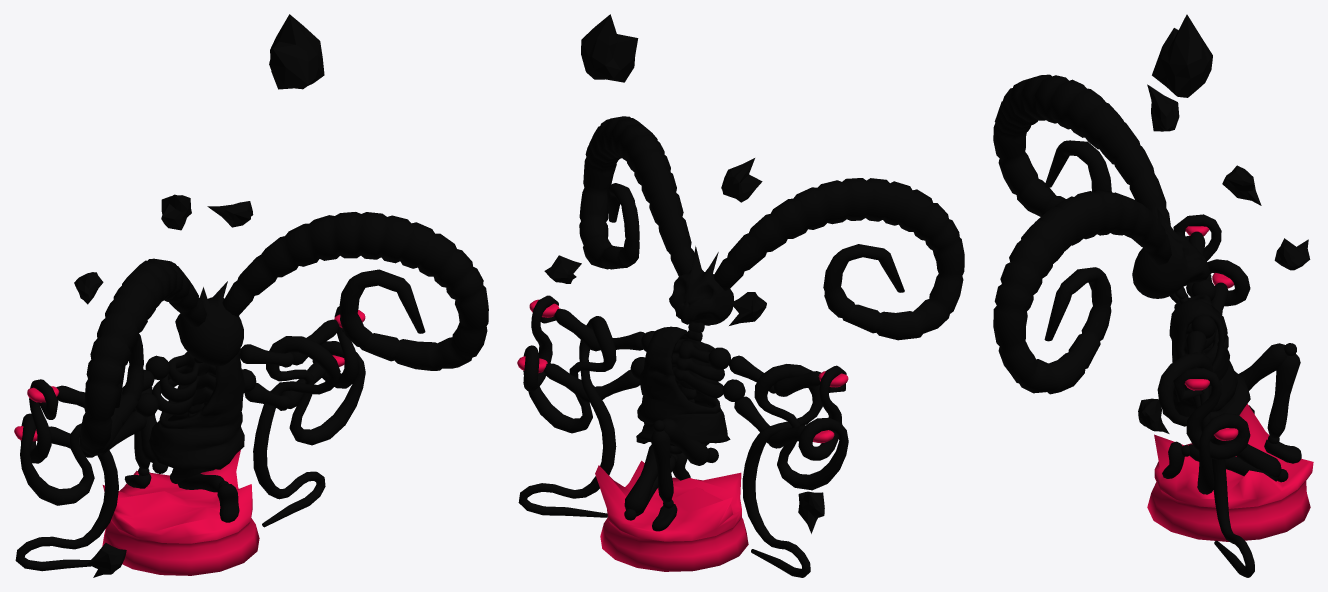
File: INT_StatueOfGreed.fbx
3 renders of one model, left to right at view 1: azimuth 30°, elevation 25°; view 2: azimuth 150°, elevation 25°; view 3: azimuth 270°, elevation 25°, orthographic. The views are drawn at different scales.
Visible parts, largest first — view 1: m_StatueOfGreed; view 2: m_StatueOfGreed; view 3: m_StatueOfGreed.
Part boxes in pixels (x1,y1,x2,y2): m_StatueOfGreed: (14, 14, 488, 577); m_StatueOfGreed: (517, 14, 964, 577); m_StatueOfGreed: (993, 14, 1313, 577).
Size of the model in its own units: 967 by 1204 by 649.
